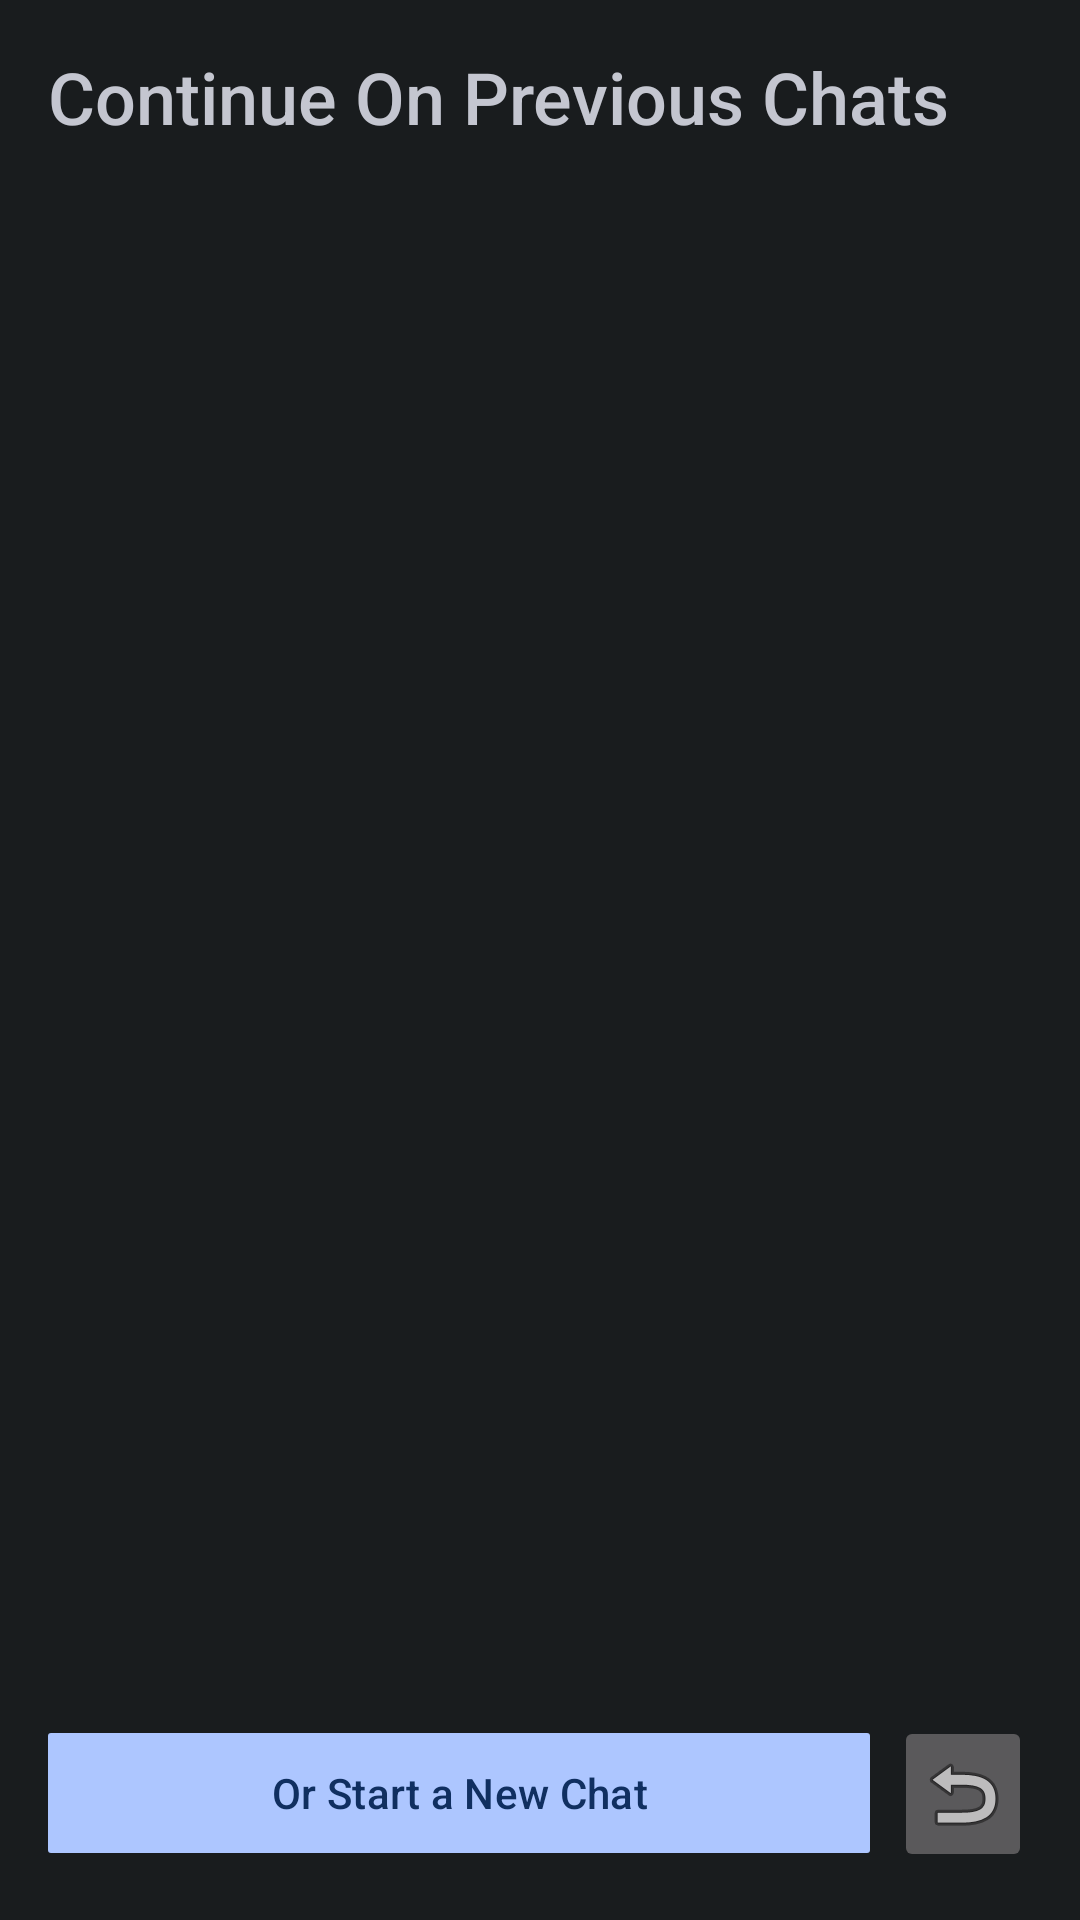

Screen size 1080×1920. Icon name, then its box in pixels as region(x1, y1, x2, y2):
revert: region(906, 1734, 1020, 1854)
